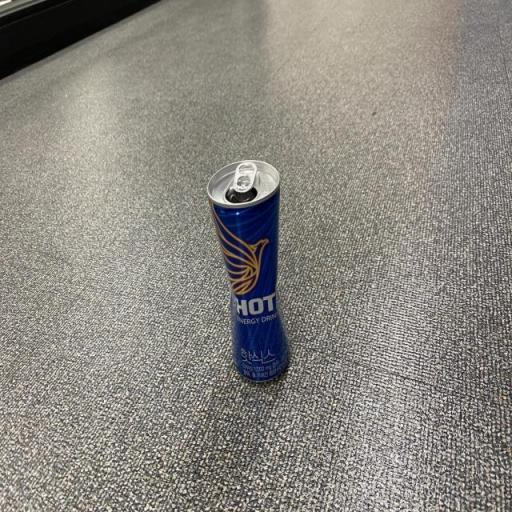metal: (194, 140, 307, 406)
